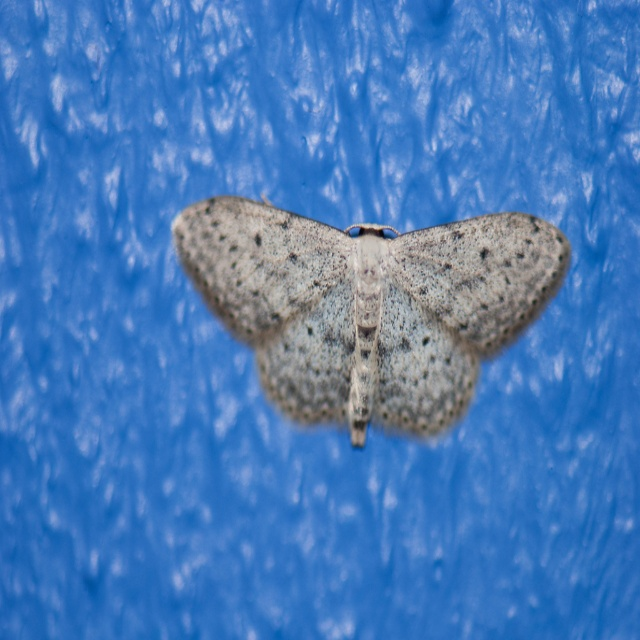Butterfly: (176, 191, 576, 452)
